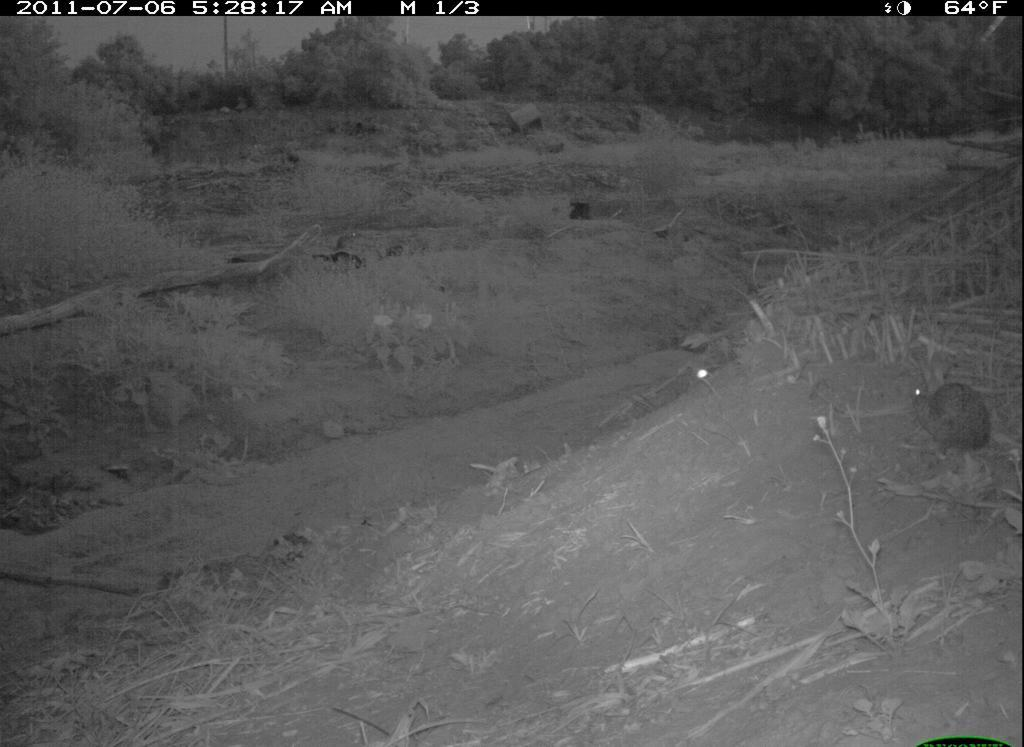rabbit: (893, 361, 996, 478)
